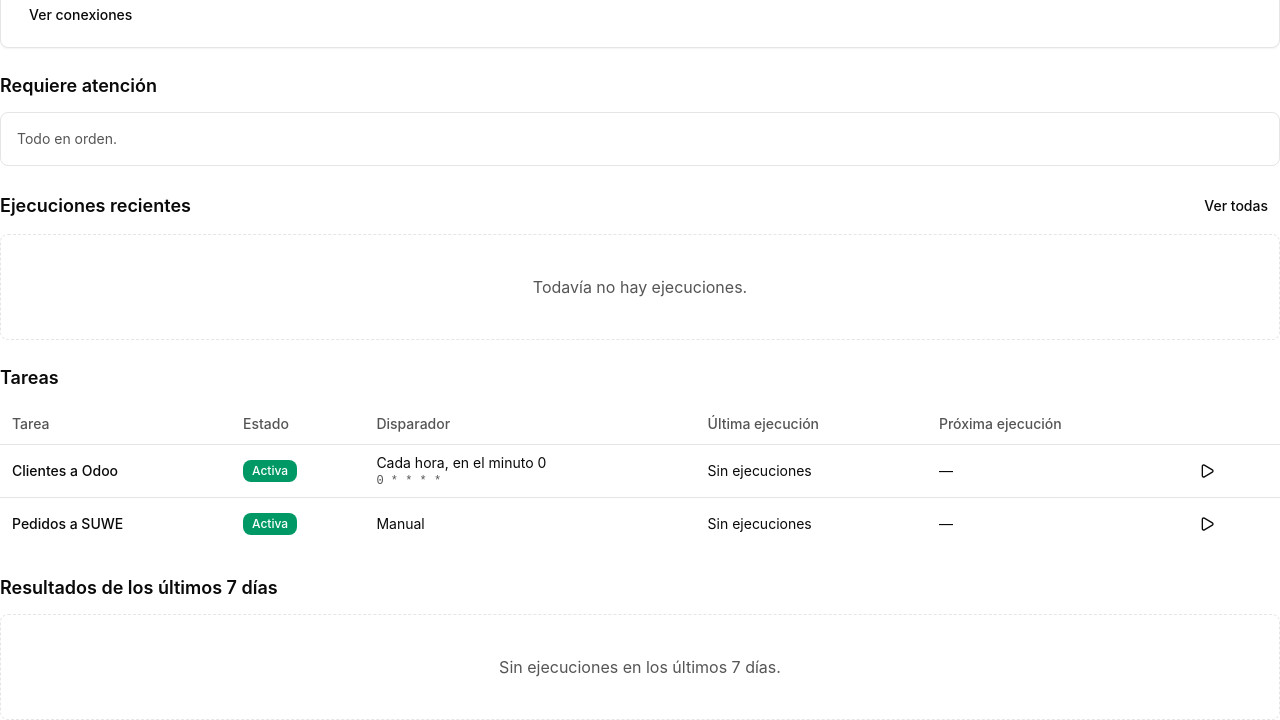
Scenario: DashboardPage › lets admins run a job now after confirming, and hides it from operators
(page scrolled)
Click the button named "Ejecutar Clientes a Odoo ahora": (1208, 470) top-left (1190, 452), bottom-right (1226, 488)
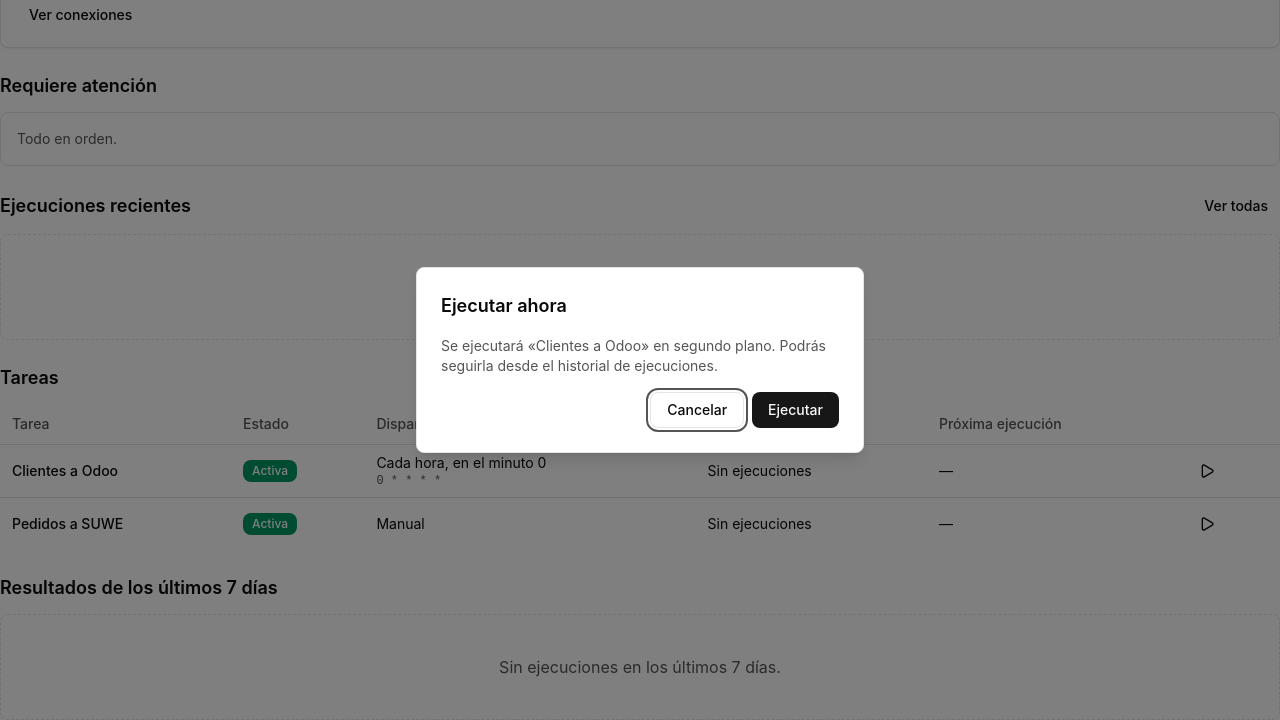
Click the button "Ejecutar": (796, 410) top-left (752, 392), bottom-right (839, 428)
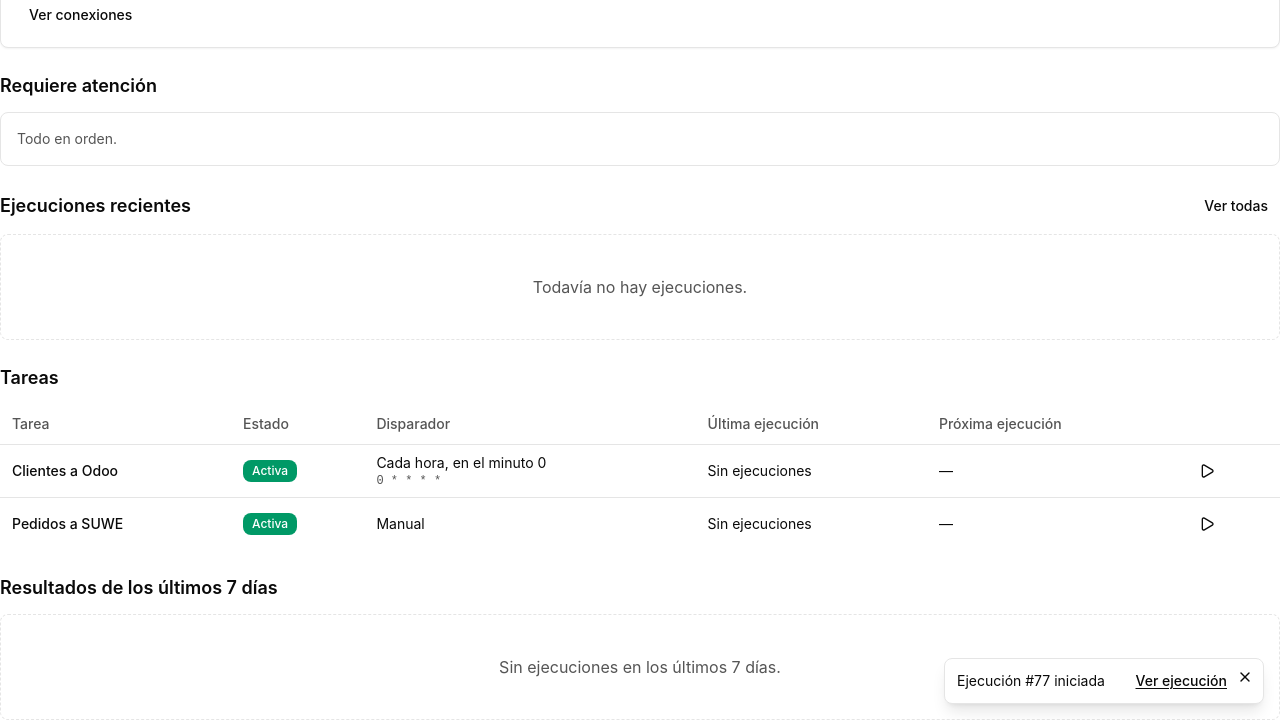
Expected: the text "Ejecución #77 iniciada" is shown, top-left (957, 671), bottom-right (1124, 691)
